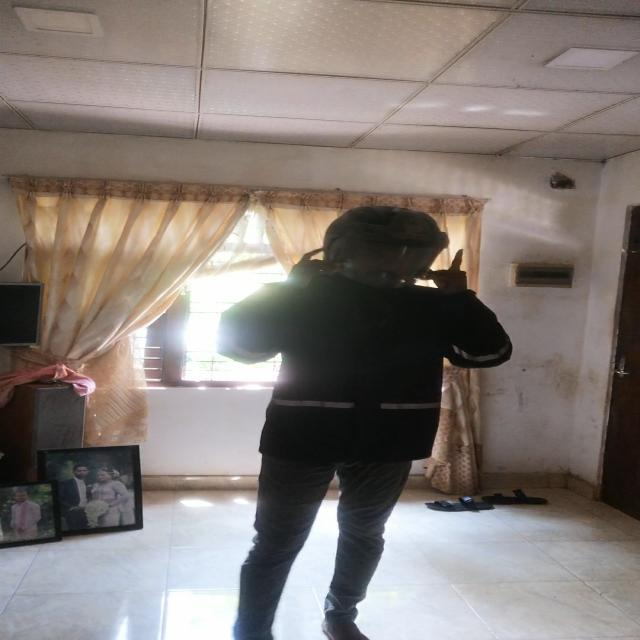Helmet_Wearer: (296, 207, 464, 301)
Jacket_Wearer: (225, 264, 511, 478)
Person: (219, 212, 508, 640)
